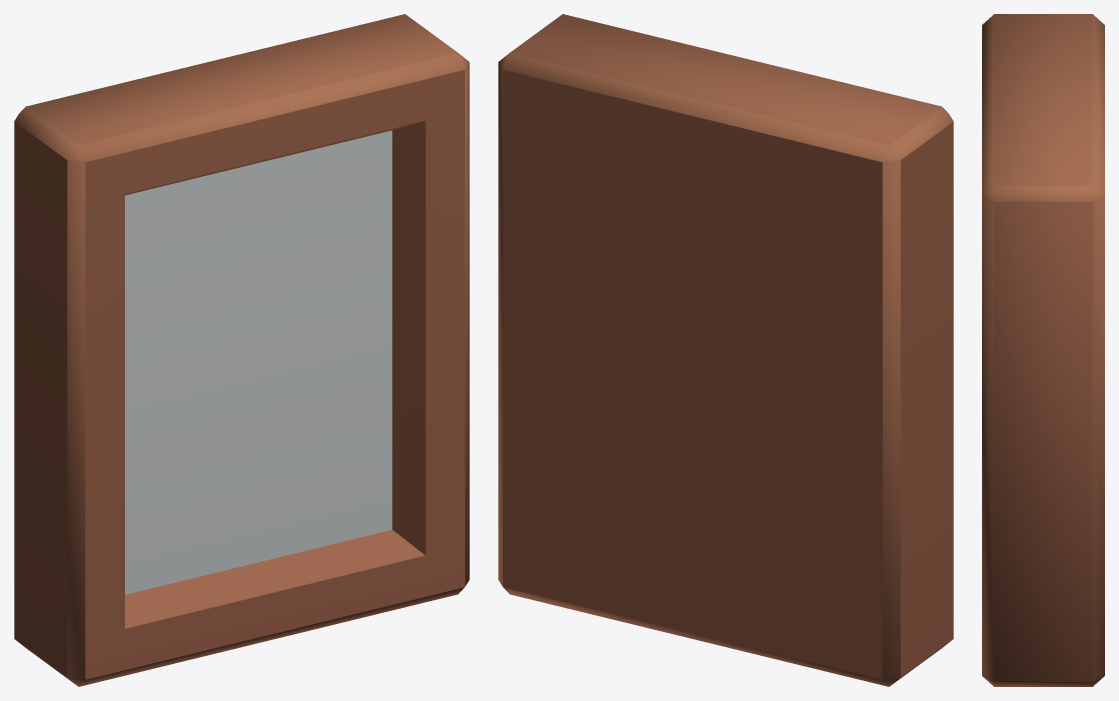
Rendered from K_pictureframe_medium.glb.
3 views of the same model, side by side, from view 1: azimuth 30°, elevation 25°; view 2: azimuth 150°, elevation 25°; view 3: azimuth 270°, elevation 25° (orthographic). The views are drawn at different scales.
Parts seen in each view (by area): view 1: pictureframe_medium; view 2: pictureframe_medium; view 3: pictureframe_medium.
Part boxes in pixels (left/top/right/bottom): pictureframe_medium: left=14, top=14, right=469, bottom=686; pictureframe_medium: left=498, top=14, right=953, bottom=686; pictureframe_medium: left=982, top=14, right=1104, bottom=686.
Bounding box in the file's own units: 0.7 × 0.9 × 0.2.
